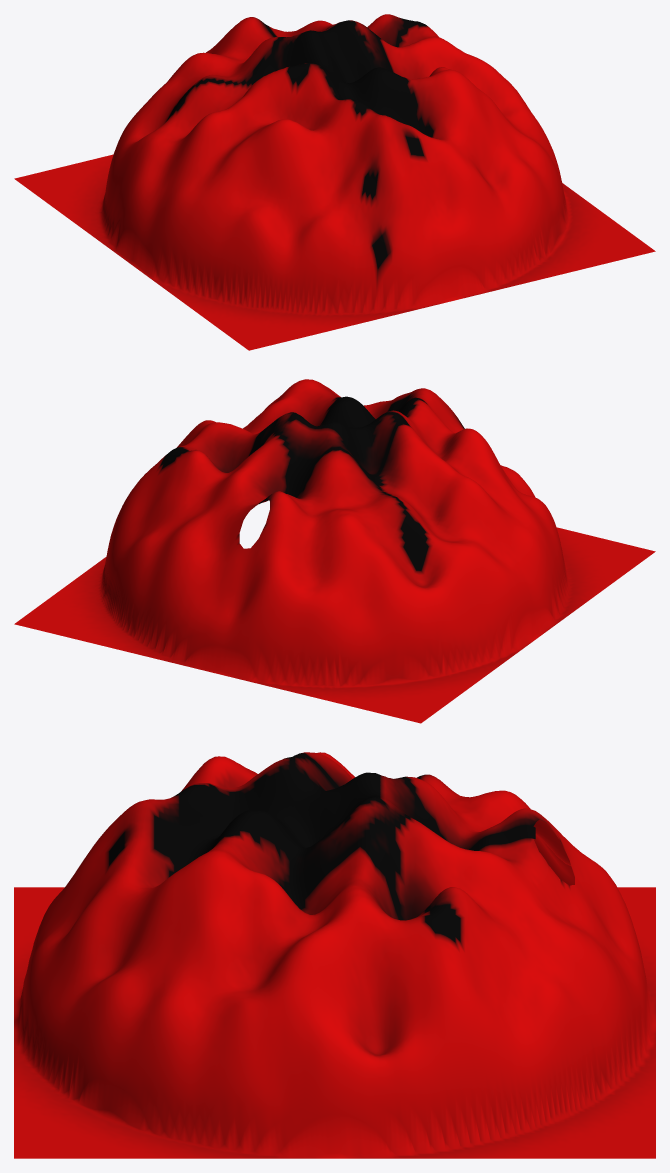
The model's file is Mountain_export.obj.
3 renders of one model, top to bottom at view 1: azimuth 30°, elevation 25°; view 2: azimuth 150°, elevation 25°; view 3: azimuth 270°, elevation 25°, orthographic. The views are drawn at different scales.
Parts seen in each view (by area): view 1: Mountain; view 2: Mountain; view 3: Mountain.
Boxes of the visible parts, left/top/right/bottom form: Mountain: left=14, top=14, right=655, bottom=350; Mountain: left=14, top=379, right=655, bottom=723; Mountain: left=14, top=752, right=655, bottom=1158.
Bounding box in the file's own units: 120 × 49.88 × 120.
